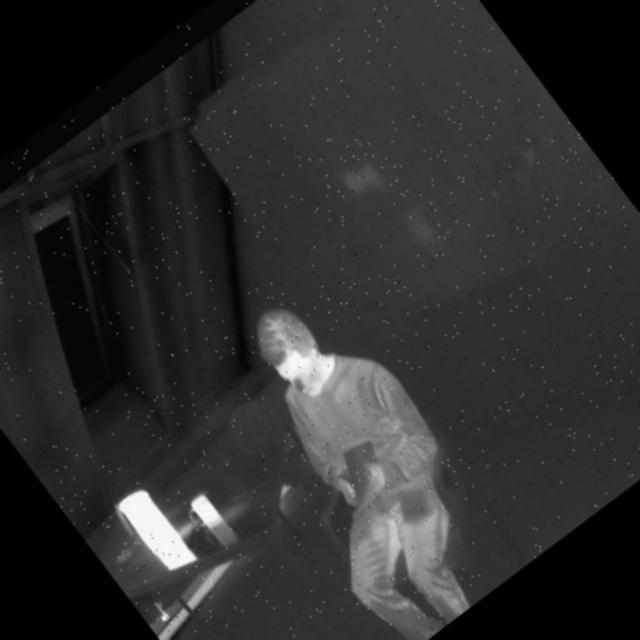person: (178, 268, 534, 640)
